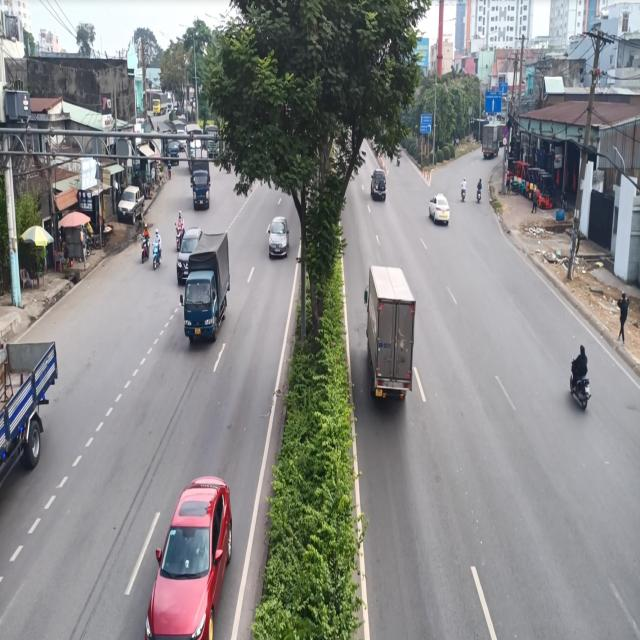car: (148, 468, 235, 640), (262, 211, 294, 272), (369, 162, 394, 210), (427, 183, 450, 232)
motor: (566, 335, 597, 427), (138, 219, 152, 265), (152, 223, 163, 275)
truck: (364, 258, 420, 414), (182, 230, 233, 358), (185, 148, 213, 211)
